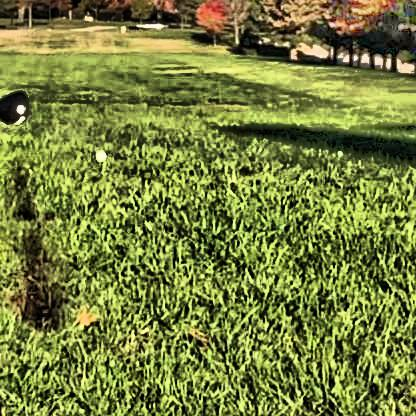golfball: (92, 146, 106, 160)
